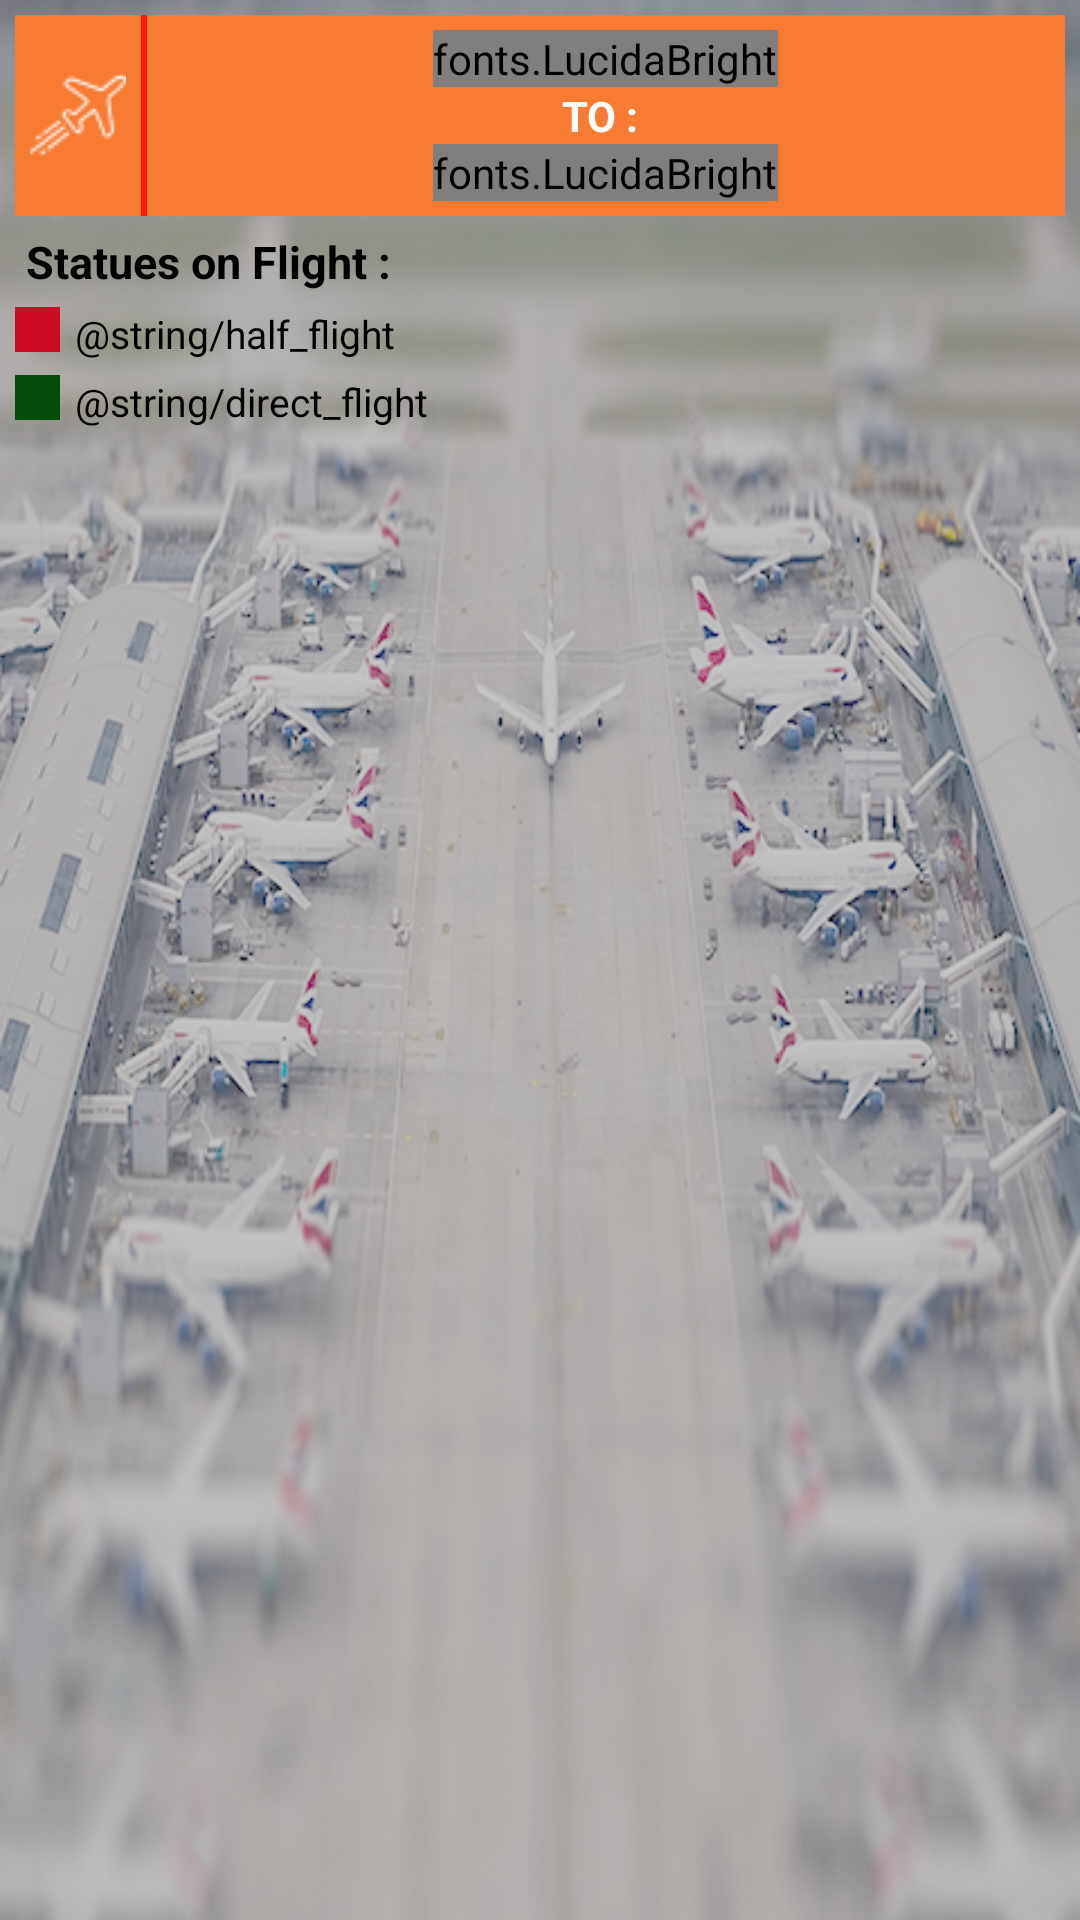

Icons on this 1080px x 1920px Android screen, each with its box as (x1, y1, x2, y2):
flying: (30, 74, 126, 155)
